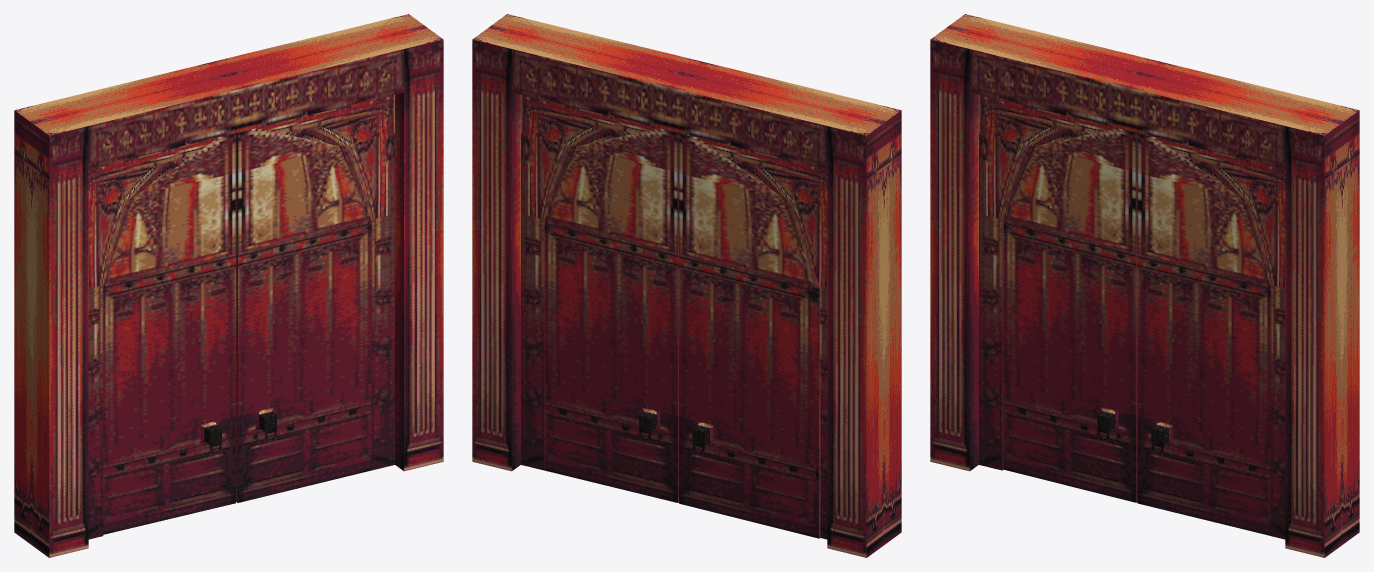
File: door.fbx
3 views of the same model, side by side, from view 1: azimuth 30°, elevation 25°; view 2: azimuth 150°, elevation 25°; view 3: azimuth 330°, elevation 25° (orthographic).
Visible parts, largest first — view 1: doorway, door_left, door_left.001; view 2: doorway, door_left.001, door_left; view 3: doorway, door_left.001, door_left.
Part boxes in pixels (x1=…): doorway: x1=14, y1=14, x2=443, y2=557; door_left: x1=236, y1=128, x2=371, y2=502; door_left.001: x1=103, y1=133, x2=235, y2=534; doorway: x1=472, y1=14, x2=901, y2=557; door_left.001: x1=679, y1=133, x2=820, y2=538; door_left: x1=544, y1=128, x2=678, y2=502; doorway: x1=930, y1=14, x2=1359, y2=557; door_left.001: x1=1003, y1=128, x2=1137, y2=502; door_left: x1=1137, y1=133, x2=1270, y2=535.
Bounding box in the file's own units: 393 × 403 × 60.
